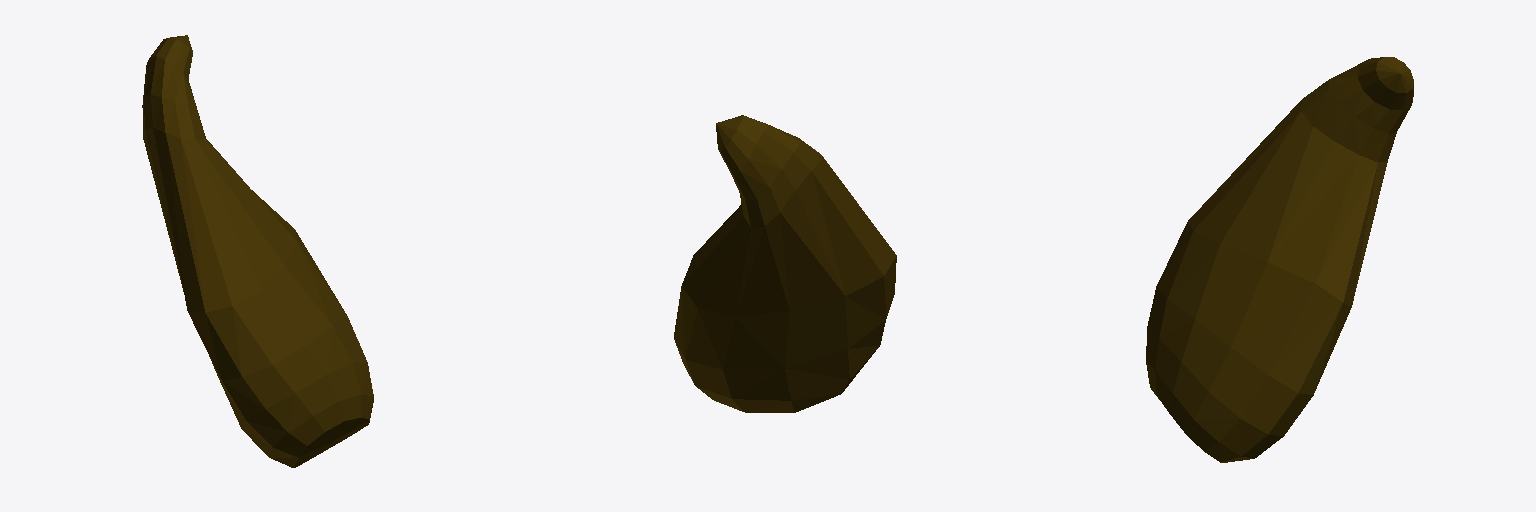
Rendered from gallbladder_tex.obj.
3 views of the same model, side by side, from view 1: azimuth 30°, elevation 25°; view 2: azimuth 150°, elevation 25°; view 3: azimuth 270°, elevation 25° (orthographic).
Size of the model in its own units: 2.63 by 5.04 by 3.31.